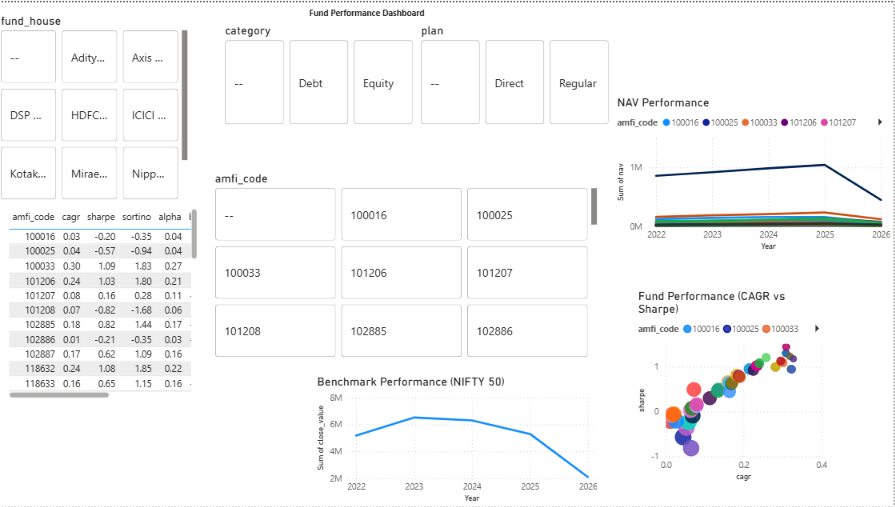

The page's visual inventory and layout, read from the dashboard file:
{"tool":"powerbi","page":{"name":"Page 2","canvas":[1280,720],"ordinal":1},"visuals":[{"type":"scatterChart","title":"Fund Performance (CAGR vs Sharpe)","fields":{"X":["fund_scorecard.cagr"],"Y":["fund_scorecard.sharpe"],"Size":["Sum(fund_scorecard.fund_score)"],"Series":["fund_scorecard.amfi_code"]},"box":[910,408.6,280,280],"z":0},{"type":"tableEx","fields":{"Values":["fund_scorecard.amfi_code","fund_scorecard.cagr","fund_scorecard.sharpe","fund_scorecard.sortino","fund_scorecard.alpha","fund_scorecard.beta","fund_scorecard.fund_score","fund_scorecard.max_drawdown"]},"box":[10,290,280,280],"z":1},{"type":"lineChart","title":"NAV Performance","fields":{"Category":["02_nav_history.date.Variation.Date Hierarchy.Year","02_nav_history.date.Variation.Date Hierarchy.Quarter","02_nav_history.date.Variation.Date Hierarchy.Month","02_nav_history.date.Variation.Date Hierarchy.Day"],"Y":["Sum(02_nav_history.nav)"],"Series":["01_fund_master.amfi_code"]},"box":[880,132.9,400,227.1],"z":2},{"type":"advancedSlicerVisual","fields":{"Values":["01_fund_master.amfi_code"]},"box":[306.2,241.2,555,272.5],"z":3},{"type":"lineChart","title":"Benchmark Performance (NIFTY 50)","fields":{"Category":["10_benchmark_indices.date.Variation.Date Hierarchy.Year","10_benchmark_indices.date.Variation.Date Hierarchy.Quarter","10_benchmark_indices.date.Variation.Date Hierarchy.Month","10_benchmark_indices.date.Variation.Date Hierarchy.Day"],"Y":["Sum(10_benchmark_indices.close_value)"]},"box":[451.4,531.4,410,188.6],"z":4},{"type":"advancedSlicerVisual","fields":{"Values":["01_fund_master.fund_house"]},"box":[0,15,276.7,271.7],"z":5},{"type":"advancedSlicerVisual","fields":{"Values":["01_fund_master.category"]},"box":[320,30,280,150],"z":6},{"type":"advancedSlicerVisual","fields":{"Values":["01_fund_master.plan"]},"box":[600,30,280,150],"z":7},{"type":"textbox","box":[440,0,205,30],"z":8}]}

Visuals, with their boxes in screenshot pixels (x1, y1, x2, y2), scaled from the page's 1280x720 canvas onto the 895x507 screenshot:
"Fund Performance (CAGR vs Sharpe)" scatterChart: [x1=636, y1=288, x2=832, y2=485]
tableEx - fund_scorecard.amfi_code x fund_scorecard.cagr: [x1=7, y1=204, x2=203, y2=401]
"NAV Performance" lineChart: [x1=615, y1=94, x2=894, y2=254]
advancedSlicerVisual - 01_fund_master.amfi_code: [x1=214, y1=170, x2=602, y2=362]
"Benchmark Performance (NIFTY 50)" lineChart: [x1=316, y1=374, x2=602, y2=506]
advancedSlicerVisual - 01_fund_master.fund_house: [x1=0, y1=11, x2=193, y2=202]
advancedSlicerVisual - 01_fund_master.category: [x1=224, y1=21, x2=420, y2=127]
advancedSlicerVisual - 01_fund_master.plan: [x1=420, y1=21, x2=615, y2=127]
textbox: [x1=308, y1=0, x2=451, y2=21]
